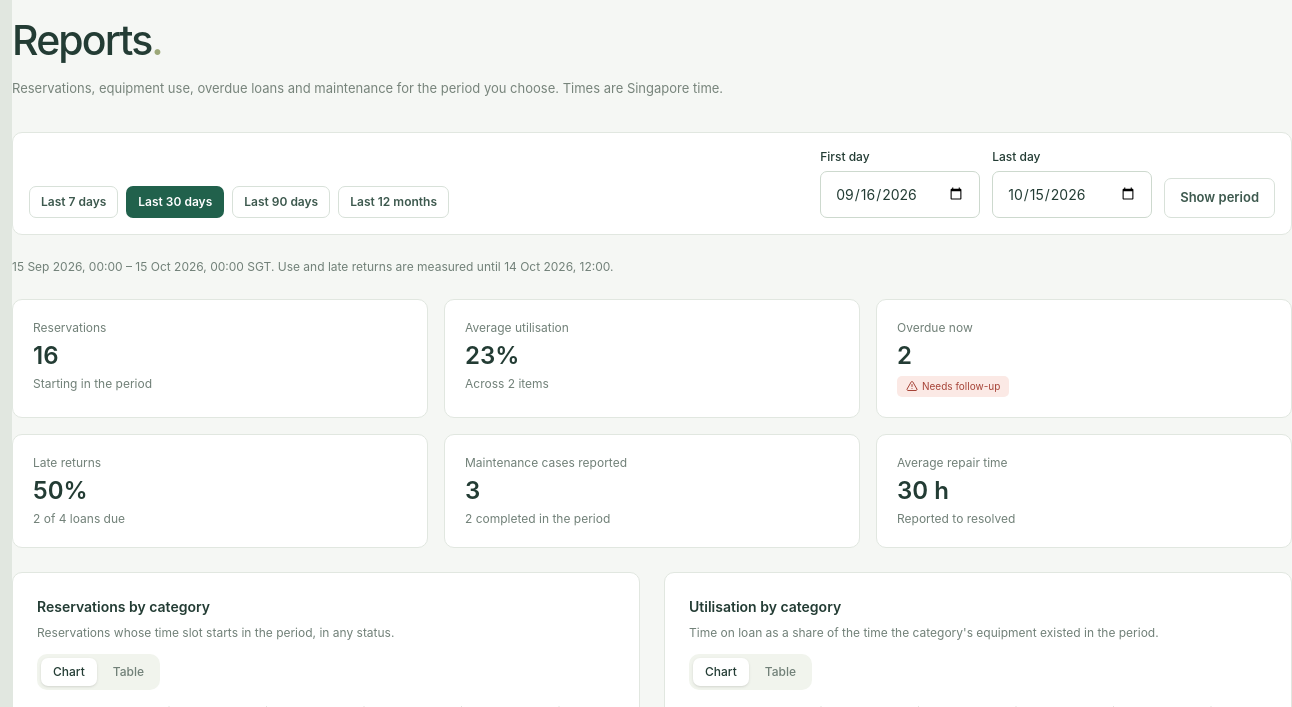
reports page › lists overdue loans longest first and offers every chart as a table
The width and height of the screenshot is (1292, 707).
Click the tab "Table" below "Reservations by category": (128, 672) [101,658,156,686]
(page scrolled)
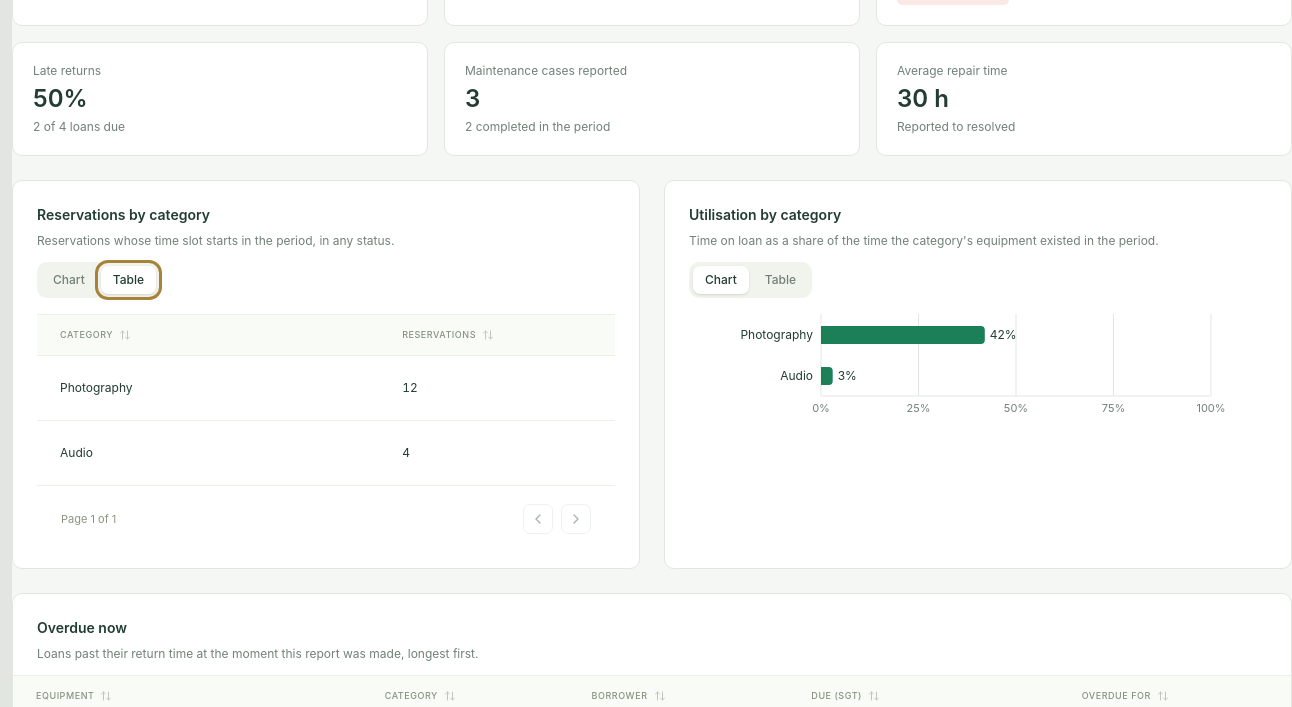
Result: the row "Photography 12" is shown at [37,356,615,420]
